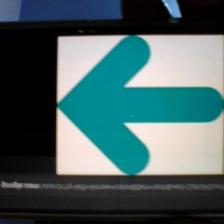left: (60, 37, 221, 173)
